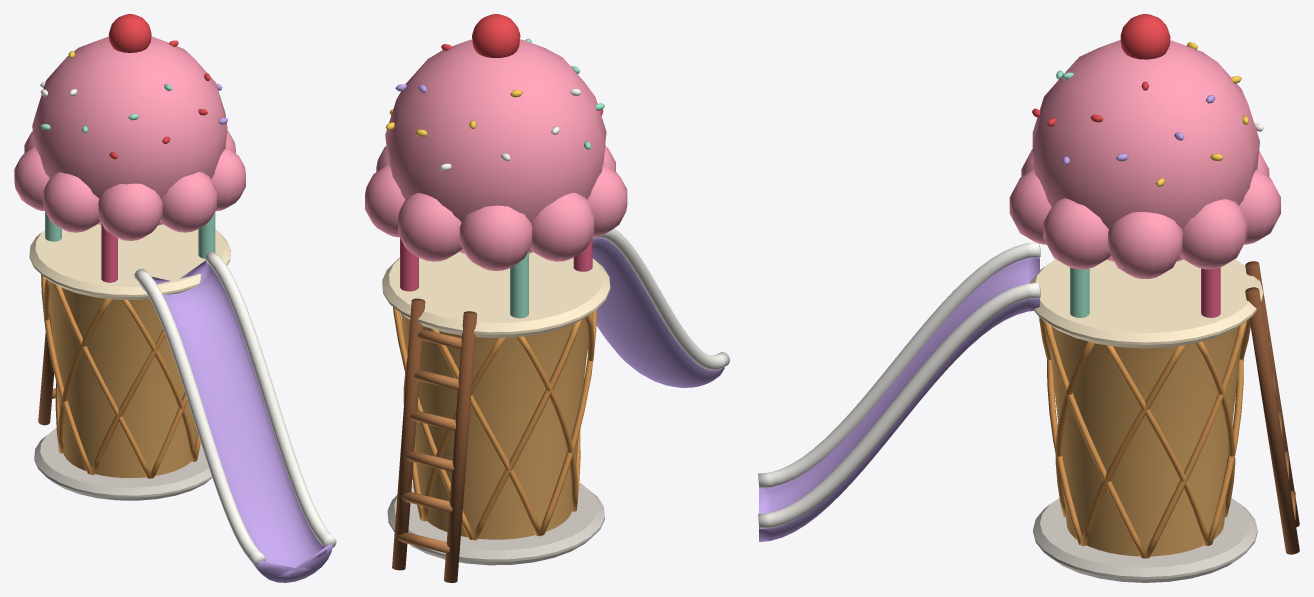
The model's file is ice_slide.fbx.
The picture shows the model from 3 angles, left to right: view 1: azimuth 30°, elevation 25°; view 2: azimuth 150°, elevation 25°; view 3: azimuth 270°, elevation 25°; orthographic projection. The views are drawn at different scales.
Visible parts, largest first — view 1: ice_slide_Pink, ice_slide_Lilac, ice_slide_Waffle, ice_slide_Cream, ice_slide_White, ice_slide_Crust, ice_slide_Stone, ice_slide_Red, ice_slide_Mint, ice_slide_WoodDark, ice_slide_PinkDark; view 2: ice_slide_Pink, ice_slide_Waffle, ice_slide_Cream, ice_slide_Crust, ice_slide_Lilac, ice_slide_WoodDark, ice_slide_Stone, ice_slide_Wood, ice_slide_White, ice_slide_Red, ice_slide_Mint, ice_slide_PinkDark; view 3: ice_slide_Pink, ice_slide_Waffle, ice_slide_Cream, ice_slide_Crust, ice_slide_White, ice_slide_Lilac, ice_slide_Stone, ice_slide_WoodDark, ice_slide_Red, ice_slide_Mint, ice_slide_PinkDark.
Part boxes in pixels (left/top/right/bottom): ice_slide_Pink: left=14, top=36, right=245, bottom=240; ice_slide_Lilac: left=139, top=83, right=332, bottom=582; ice_slide_Waffle: left=49, top=282, right=197, bottom=477; ice_slide_Cream: left=29, top=224, right=230, bottom=299; ice_slide_White: left=40, top=81, right=336, bottom=566; ice_slide_Crust: left=41, top=274, right=200, bottom=478; ice_slide_Stone: left=34, top=428, right=212, bottom=500; ice_slide_Red: left=108, top=14, right=210, bottom=159; ice_slide_Mint: left=40, top=84, right=215, bottom=258; ice_slide_WoodDark: left=38, top=313, right=54, bottom=425; ice_slide_PinkDark: left=101, top=223, right=117, bottom=282; ice_slide_Pink: left=365, top=39, right=627, bottom=270; ice_slide_Waffle: left=400, top=313, right=587, bottom=539; ice_slide_Cream: left=382, top=252, right=610, bottom=337; ice_slide_Crust: left=393, top=307, right=596, bottom=540; ice_slide_Lilac: left=395, top=84, right=724, bottom=387; ice_slide_WoodDark: left=392, top=298, right=477, bottom=582; ice_slide_Stone: left=387, top=482, right=604, bottom=565; ice_slide_Wood: left=397, top=329, right=461, bottom=552; ice_slide_White: left=440, top=88, right=729, bottom=370; ice_slide_Red: left=441, top=14, right=603, bottom=115; ice_slide_Mint: left=510, top=38, right=604, bottom=318; ice_slide_PinkDark: left=400, top=237, right=592, bottom=291; ice_slide_Pink: left=1009, top=40, right=1280, bottom=278; ice_slide_Waffle: left=1049, top=326, right=1240, bottom=556; ice_slide_Cream: left=1030, top=259, right=1263, bottom=348; ice_slide_Crust: left=1039, top=317, right=1250, bottom=558; ice_slide_White: left=758, top=123, right=1263, bottom=529; ice_slide_Lilac: left=759, top=95, right=1215, bottom=541; ice_slide_Stone: left=1033, top=498, right=1257, bottom=582; ice_slide_WoodDark: left=1245, top=261, right=1299, bottom=554; ice_slide_Red: left=1032, top=14, right=1170, bottom=126; ice_slide_Mint: left=1056, top=70, right=1089, bottom=317; ice_slide_PinkDark: left=1201, top=267, right=1220, bottom=317.
Size of the model in its own units: 18.98 by 41.07 by 38.55.
